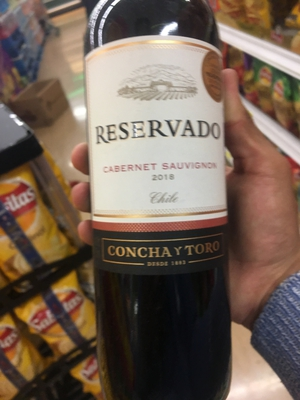reservado cabernet sauvignon: (75, 3, 236, 400)
